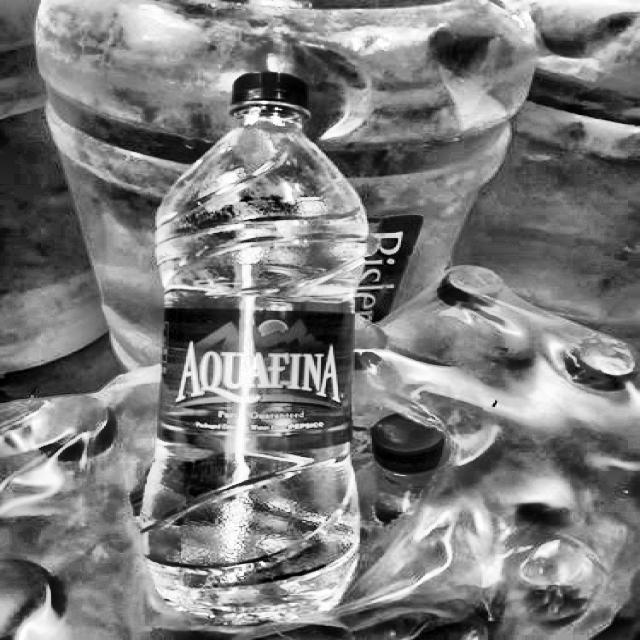waterbottle: (132, 55, 375, 635)
